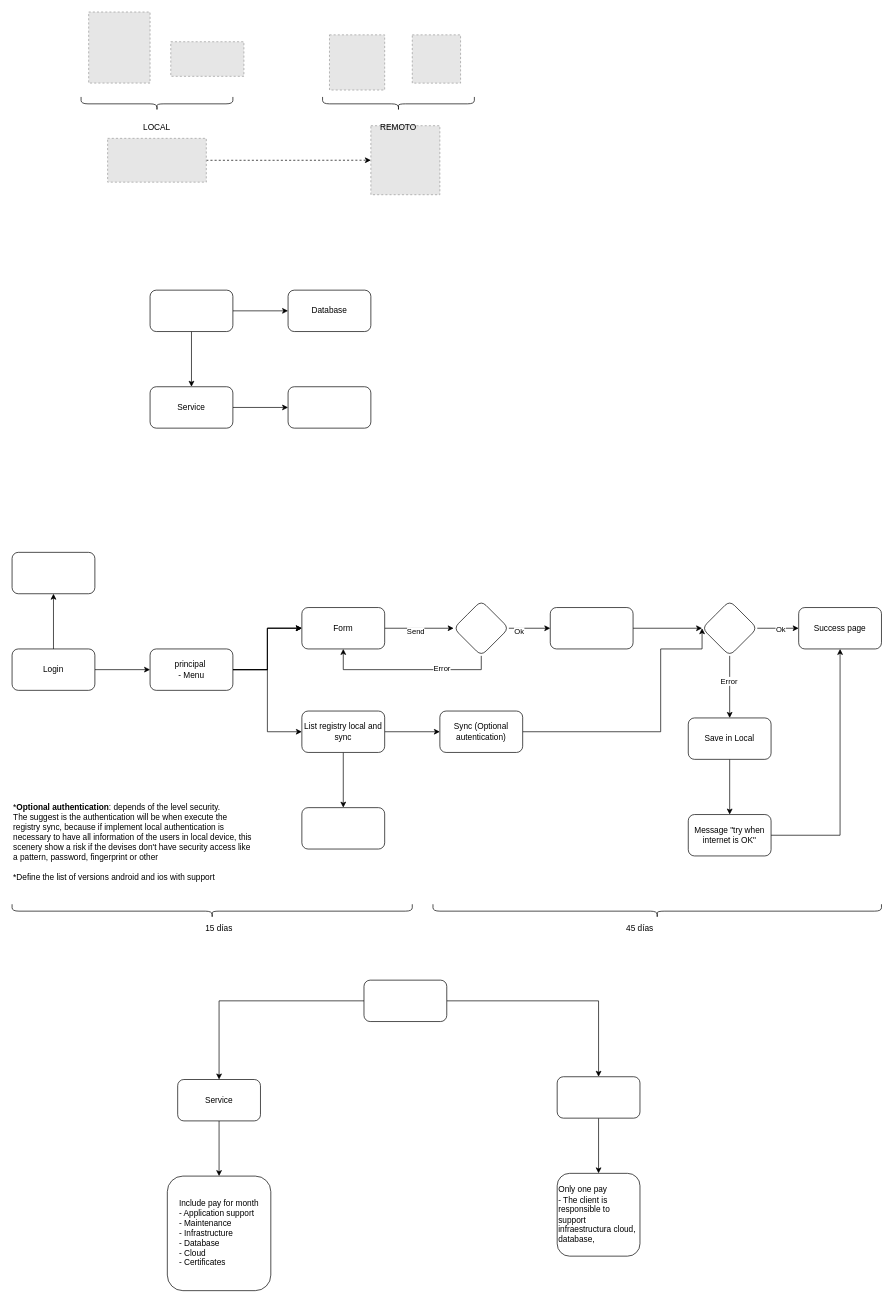
This 894x1303 diagram has some shape labels left out. Grey dashed boxes stand in for pictures. The shapes that lost their labels are listed below. From the top down, each one's box as (x1, y1, x2, y2) in pixels, then its label:
(149, 289, 233, 332): APP
(287, 386, 371, 428): Datase
(11, 552, 95, 594): Local authentication (Optional)
(550, 607, 633, 649): Try to Sync (Optional autentication)
(301, 807, 385, 849): Show all data of a registry
(363, 979, 447, 1022): Cost Model
(556, 1076, 640, 1118): Product
